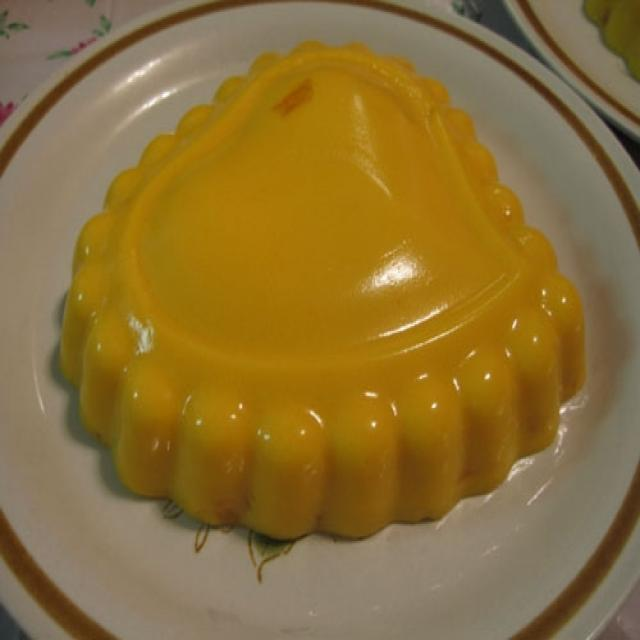蛋糕甜品: (12, 11, 631, 632)
